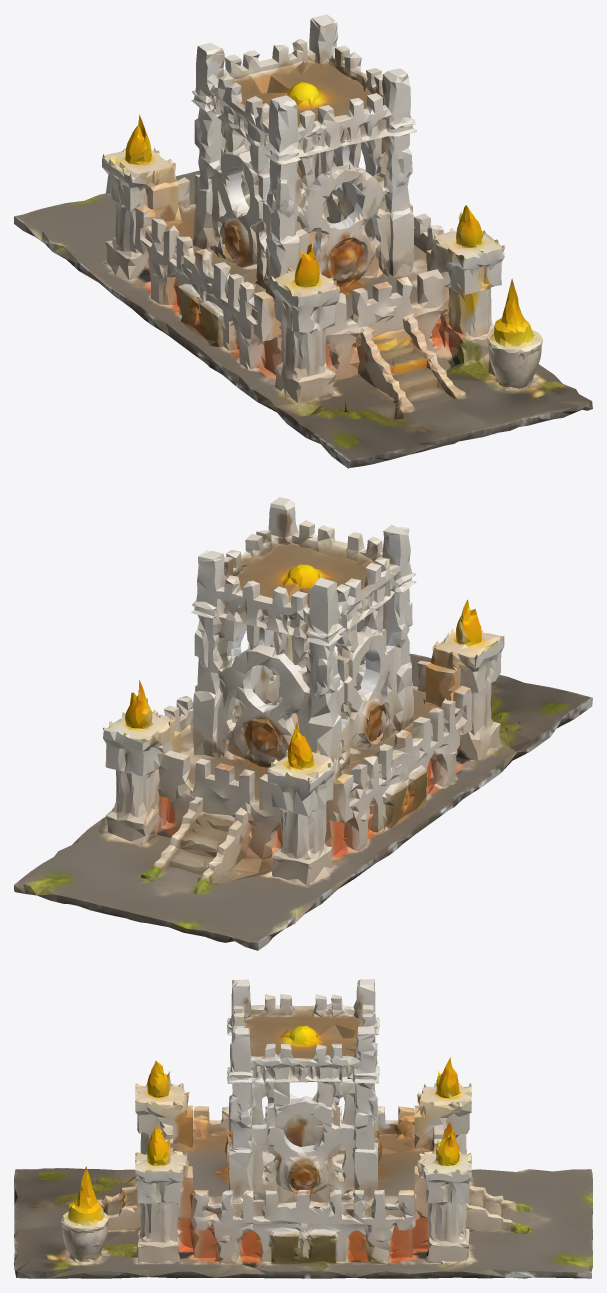
Rendered from undead_tower.glb.
3 renders of one model, top to bottom at view 1: azimuth 30°, elevation 25°; view 2: azimuth 150°, elevation 25°; view 3: azimuth 270°, elevation 25°, orthographic. The views are drawn at different scales.
Visible parts, largest first — view 1: undead_tower; view 2: undead_tower; view 3: undead_tower.
Part boxes in pixels (x1=…): undead_tower: x1=14, y1=14, x2=592, y2=468; undead_tower: x1=14, y1=497, x2=592, y2=950; undead_tower: x1=14, y1=979, x2=592, y2=1278.
Size of the model in its own units: 0.7906 by 0.7954 by 1.88.
Materials: 1 (1 with a texture image).
